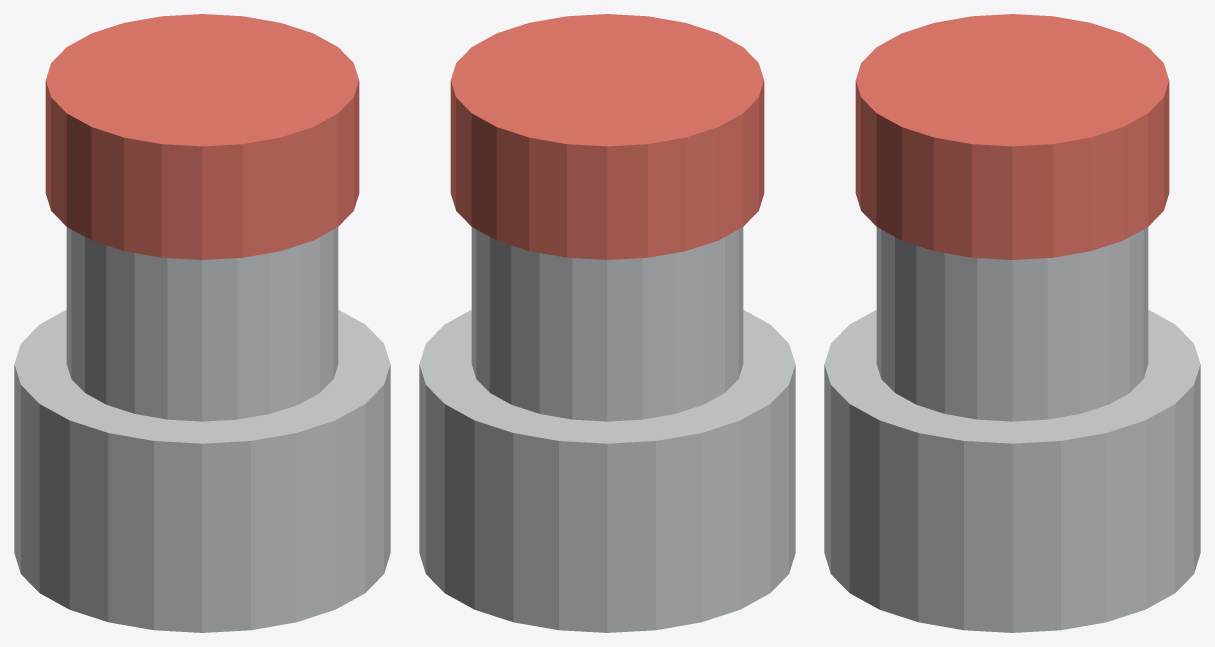
Rendered from prop_cooling_tower.glb.
3 views of the same model, side by side, from view 1: azimuth 30°, elevation 25°; view 2: azimuth 150°, elevation 25°; view 3: azimuth 270°, elevation 25° (orthographic).
Visible parts, largest first — view 1: SM_Cooling_Tower; view 2: SM_Cooling_Tower; view 3: SM_Cooling_Tower.
Part boxes in pixels (bbox=[...]): SM_Cooling_Tower: bbox=[14, 14, 390, 632]; SM_Cooling_Tower: bbox=[419, 14, 795, 632]; SM_Cooling_Tower: bbox=[824, 14, 1200, 632].
Bounding box in the file's own units: 36 × 50 × 36.
